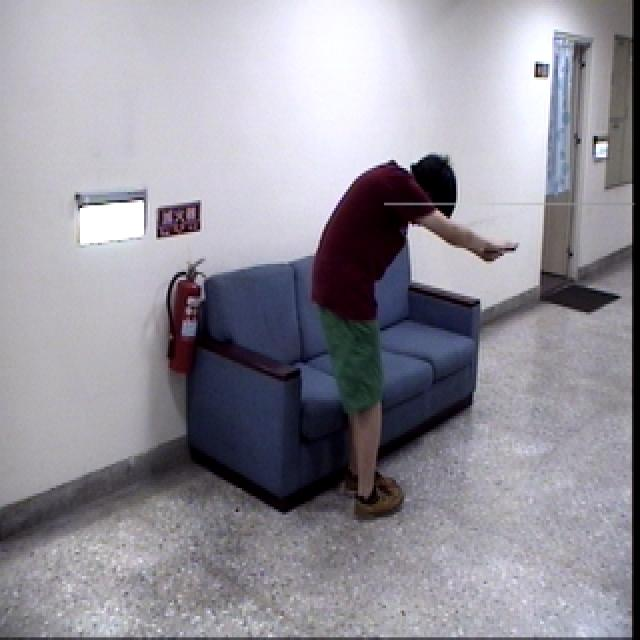bend: (307, 141, 520, 528)
